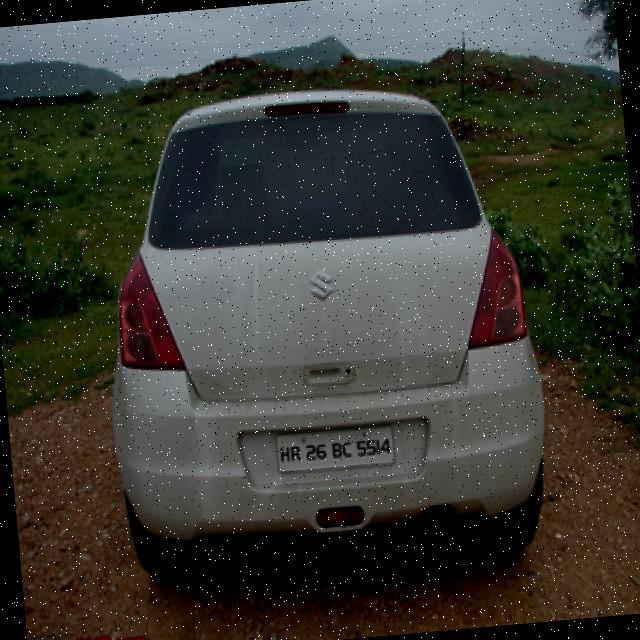Autre: (276, 418, 398, 473)
